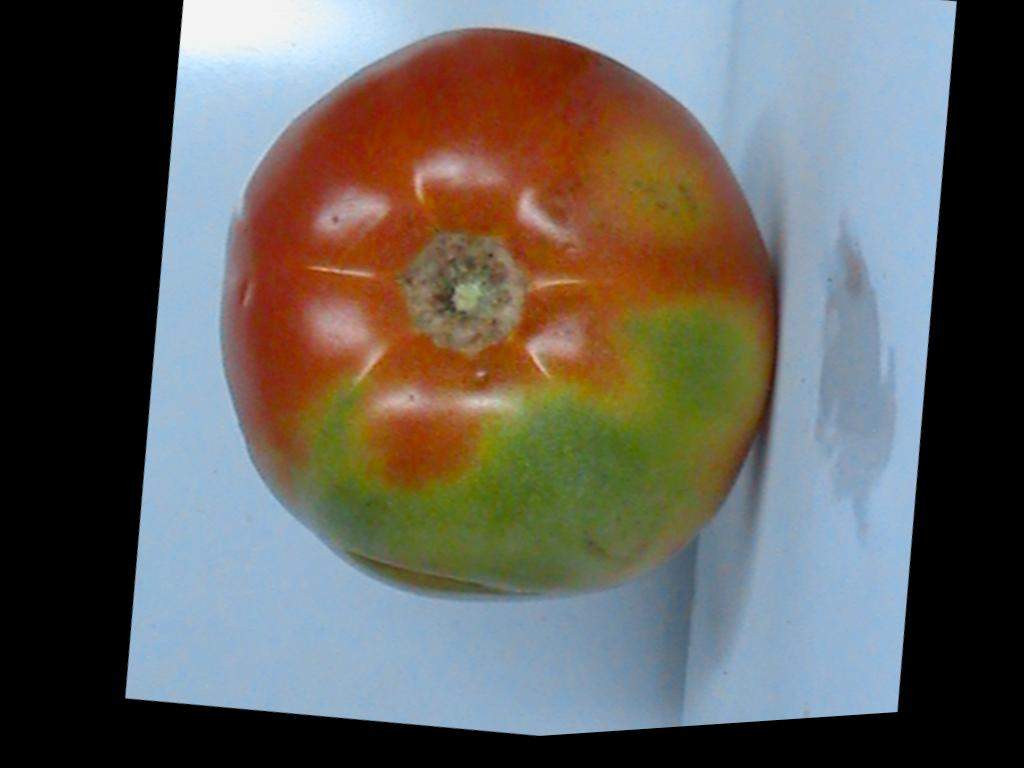bruise_discoloration: (285, 297, 765, 594), (595, 134, 710, 240)
tomato: (222, 30, 772, 601)
